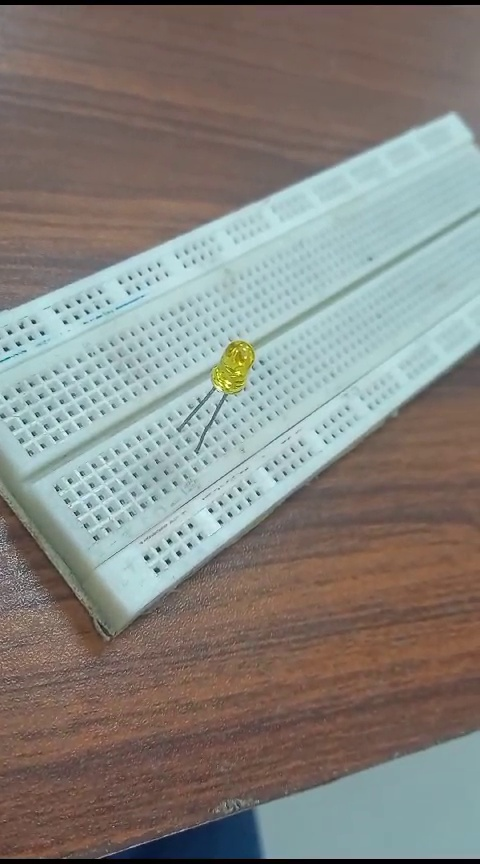LED: (172, 337, 254, 452)
